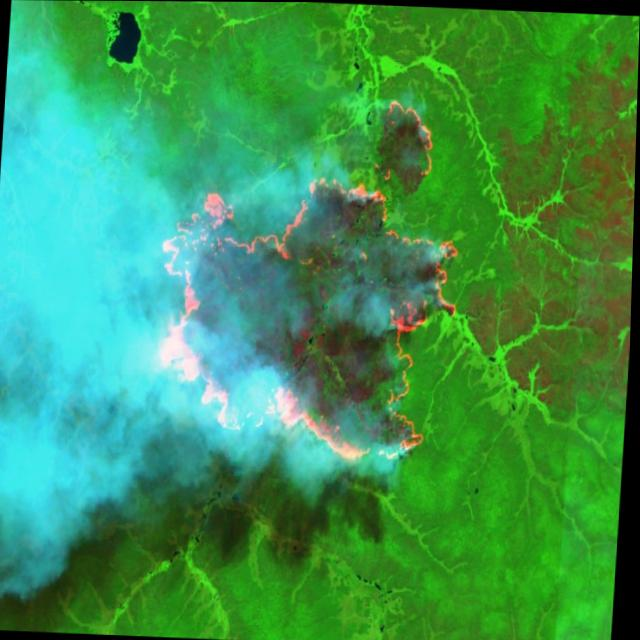fire: (154, 78, 473, 470)
